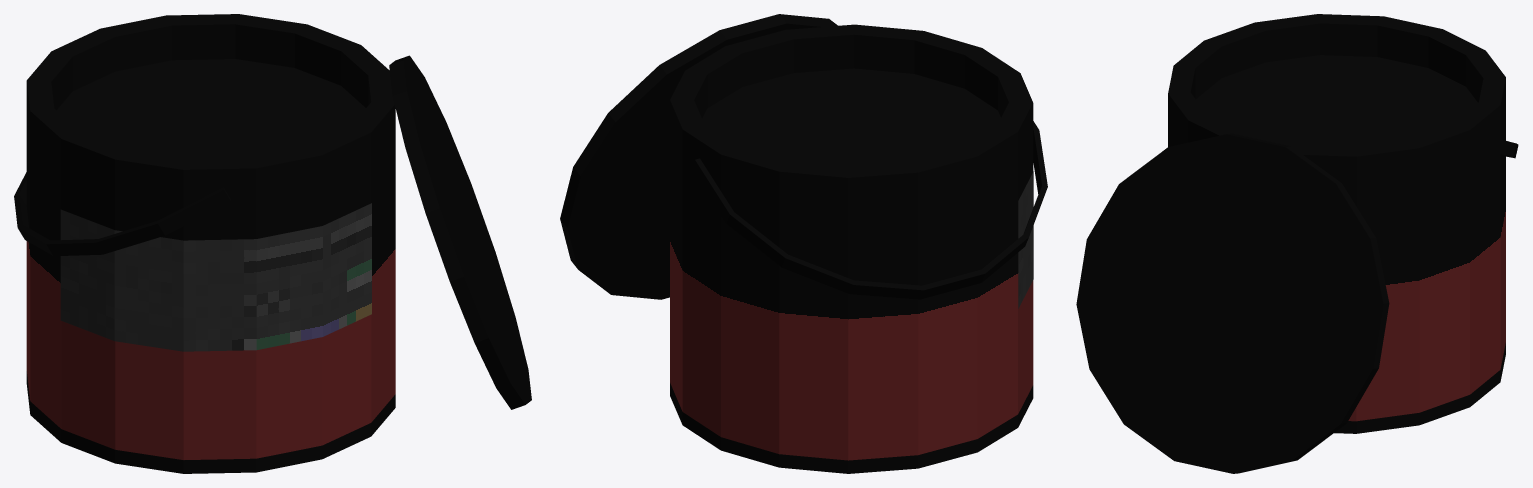
File: paintcan.obj
The picture shows the model from 3 angles, left to right: view 1: azimuth 30°, elevation 25°; view 2: azimuth 150°, elevation 25°; view 3: azimuth 270°, elevation 25°; orthographic projection. The views are drawn at different scales.
Parts seen in each view (by area): view 1: label; view 2: label; view 3: label.
Boxes of the visible parts, left/top/right/bottom form: label: left=14, top=14, right=531, bottom=473; label: left=560, top=14, right=1047, bottom=473; label: left=1076, top=14, right=1518, bottom=473.
Bounding box in the file's own units: 0.6336 × 0.4163 × 0.5784.
